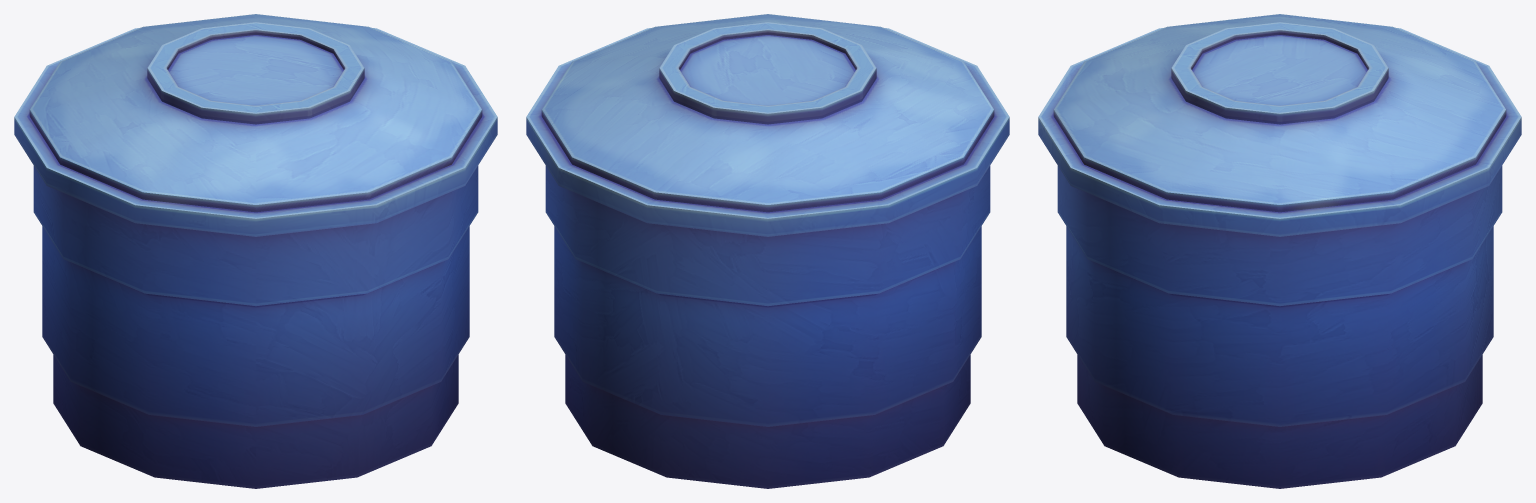
The model's file is CaixaAguaBrasileira.fbx.
The picture shows the model from 3 angles, left to right: view 1: azimuth 30°, elevation 25°; view 2: azimuth 150°, elevation 25°; view 3: azimuth 270°, elevation 25°; orthographic projection.
Visible parts, largest first — view 1: CaixaAguaBrasileira; view 2: CaixaAguaBrasileira; view 3: CaixaAguaBrasileira.
Part boxes in pixels (x1,y1,x2,y2): CaixaAguaBrasileira: (14, 14, 497, 488); CaixaAguaBrasileira: (526, 14, 1009, 488); CaixaAguaBrasileira: (1038, 14, 1521, 488).
Size of the model in its own units: 1.63 by 1.25 by 1.63.
